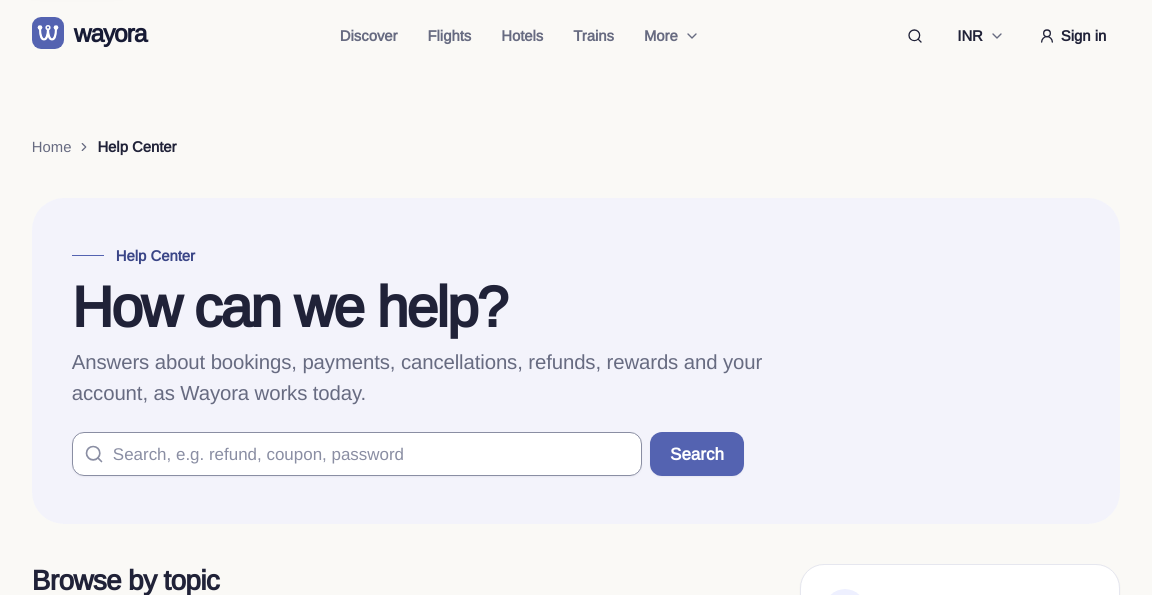
Scenario: Help Center › searches articles, browses topics and opens an article with its provider note and related links
The image size is (1152, 595).
Expected: the heading "How can we help?" is shown, [72,271,506,339]
Step 1. Type "refund" into the search field named "Search help articles" → point(370, 454), box [113,433,627,475]
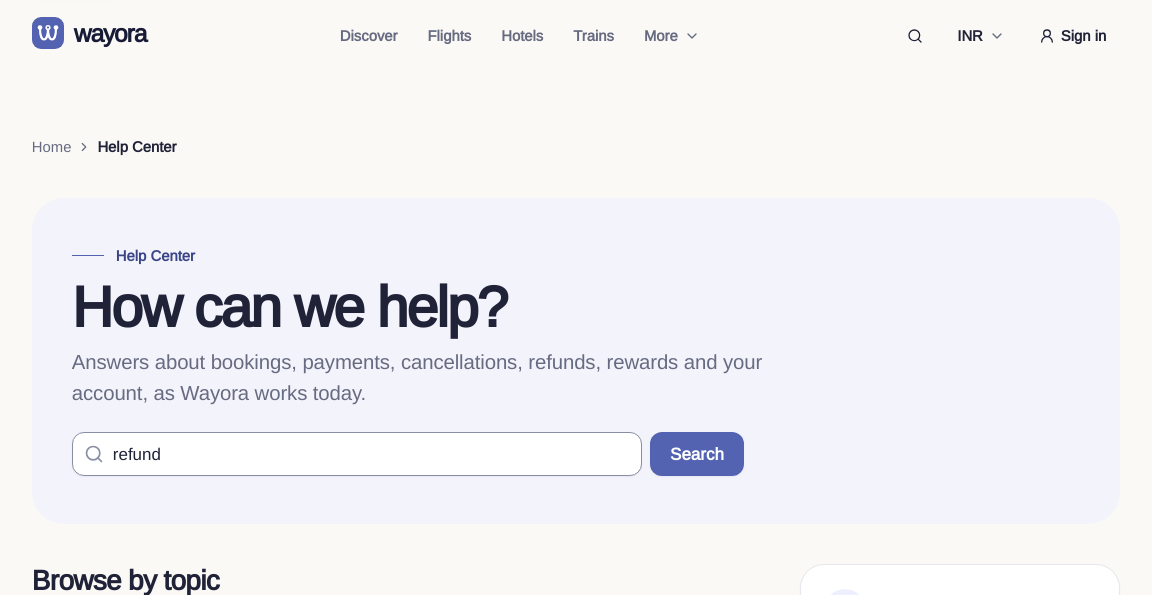
Step 2. Click the button "Search" → point(697, 454), box [650,432,744,476]
(page scrolled)
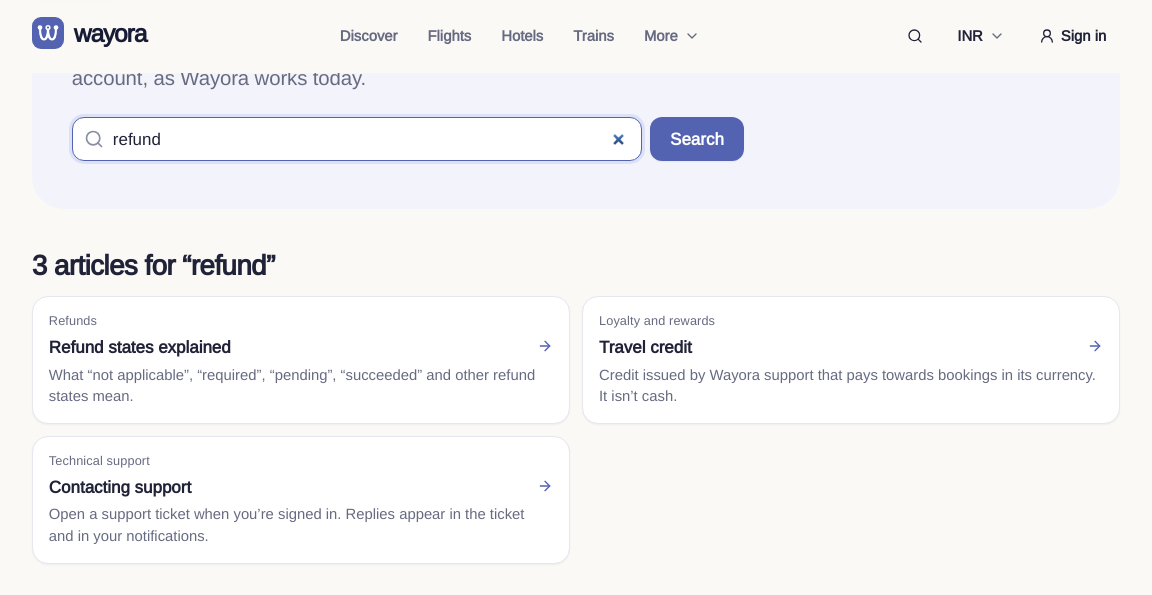
Expected: the heading "3 articles for “refund”" is shown, [32,248,275,281]
Step 3. Click the link "Refund states explained" → point(73, 321), box [32,296,570,424]
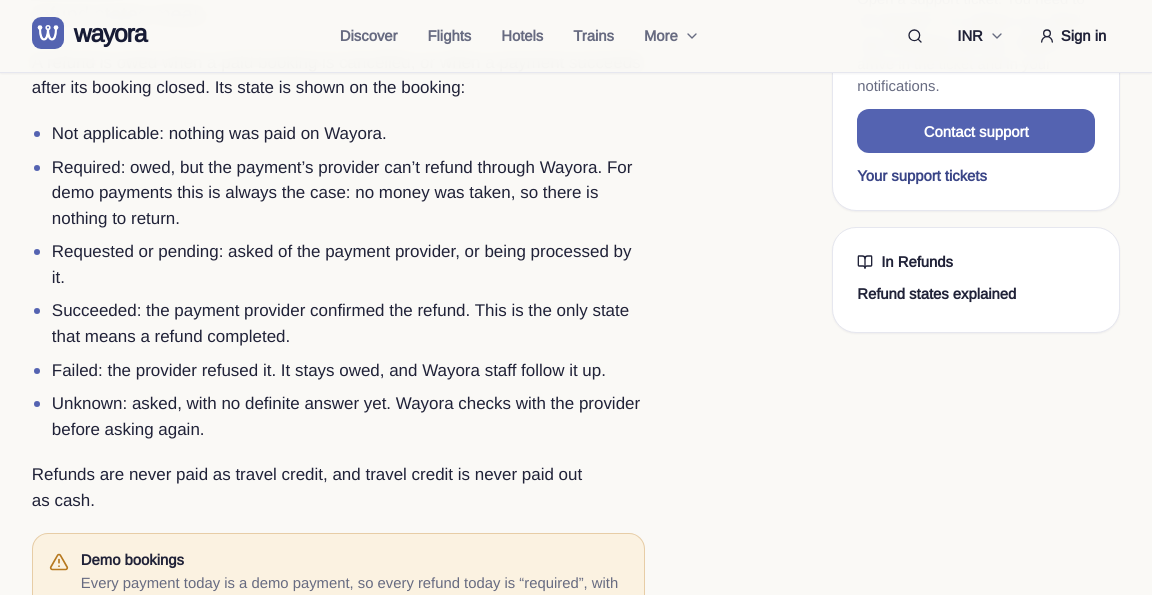
Expected: the text "Demo bookings" is shown, [81,550,184,568]
